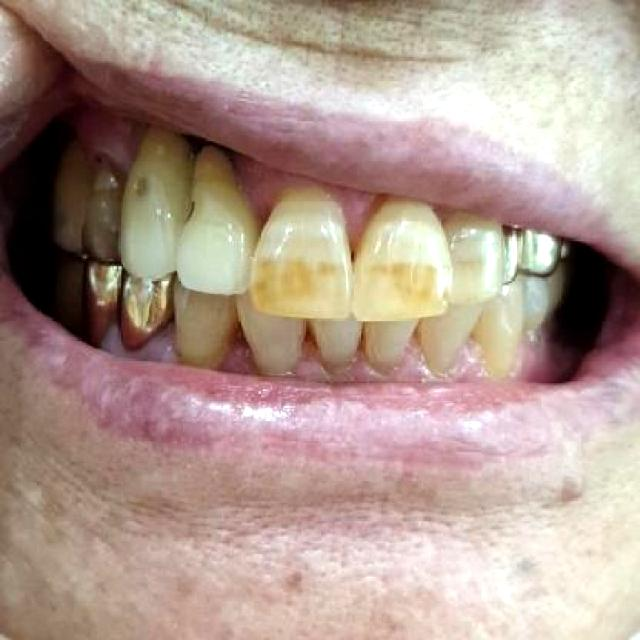Plaque: (77, 148, 135, 203), (174, 188, 216, 233)
